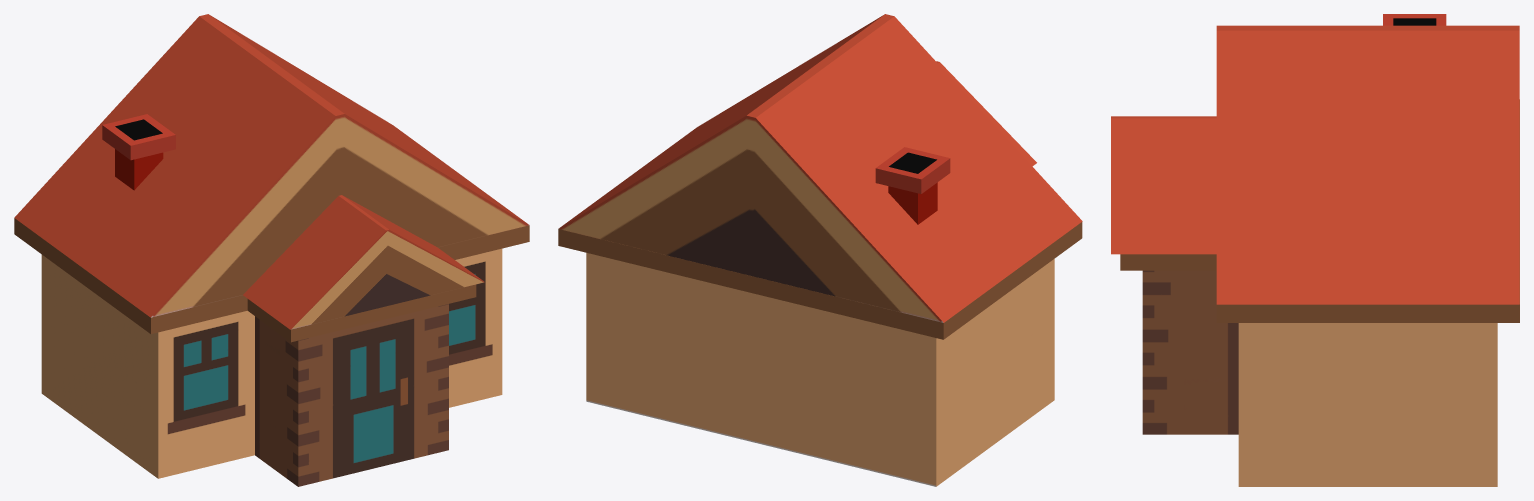
Rendered from Building #28.fbx.
3 renders of one model, left to right at view 1: azimuth 30°, elevation 25°; view 2: azimuth 150°, elevation 25°; view 3: azimuth 270°, elevation 25°, orthographic. The views are drawn at different scales.
Visible parts, largest first — view 1: BuildingA; view 2: BuildingA; view 3: BuildingA.
Part boxes in pixels (x1=…): BuildingA: x1=14, y1=14, x2=529, y2=486; BuildingA: x1=558, y1=14, x2=1082, y2=486; BuildingA: x1=1111, y1=14, x2=1519, y2=486.
Size of the model in its own units: 3061 by 2540 by 2573.
1 material, 1 textured.
